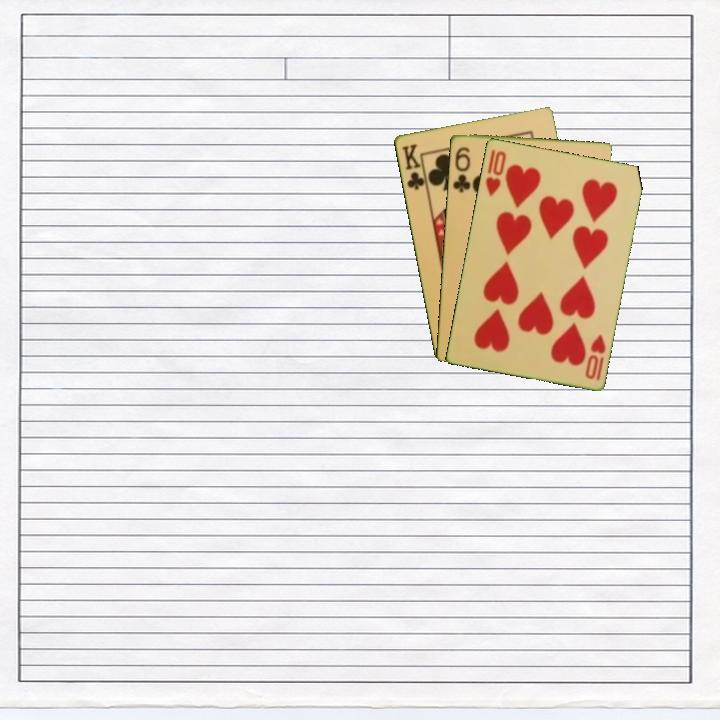10h: (482, 146, 509, 199), (581, 331, 608, 383)
6c: (449, 143, 473, 195)
Kc: (398, 140, 429, 193)
